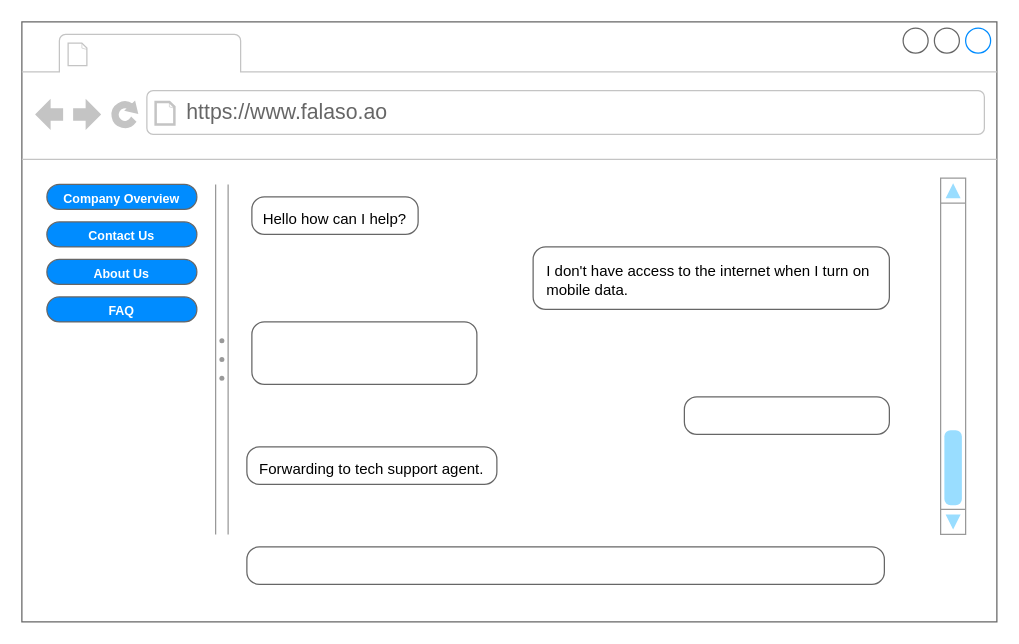
This 1019x644 diagram has some shape labels left out. Here are the shapes that lost their labels. From the top down, the centre of each, then its label:
the point at 165,52: FalaSó
the point at 364,346: Have you tried turning on and off your mobile device?
the point at 786,408: I need further assistance!
the point at 565,558: Thank you!
